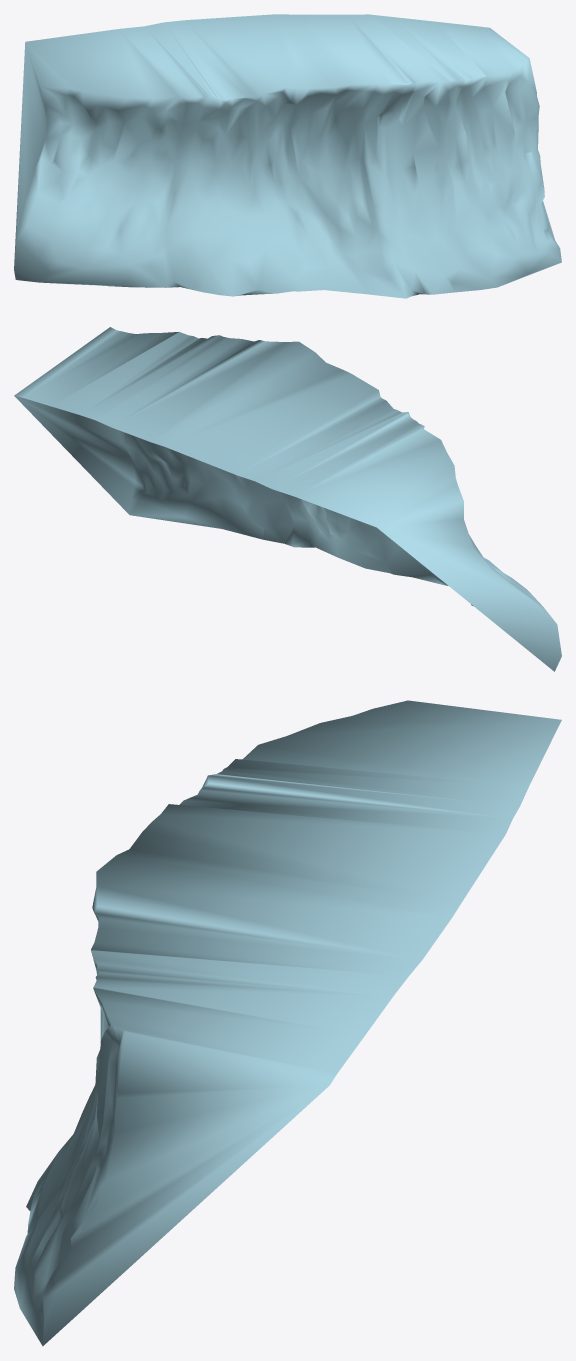
File: Glacier_1.fbx
3 renders of one model, top to bottom at view 1: azimuth 30°, elevation 25°; view 2: azimuth 150°, elevation 25°; view 3: azimuth 270°, elevation 25°, orthographic. The views are drawn at different scales.
Parts seen in each view (by area): view 1: Glacier 1.014; view 2: Glacier 1.014; view 3: Glacier 1.014.
Boxes of the visible parts, left/top/right/bottom form: Glacier 1.014: left=14, top=14, right=561, bottom=298; Glacier 1.014: left=14, top=327, right=561, bottom=671; Glacier 1.014: left=14, top=700, right=561, bottom=1346.
Size of the model in its own units: 13160 by 5433 by 7889.
